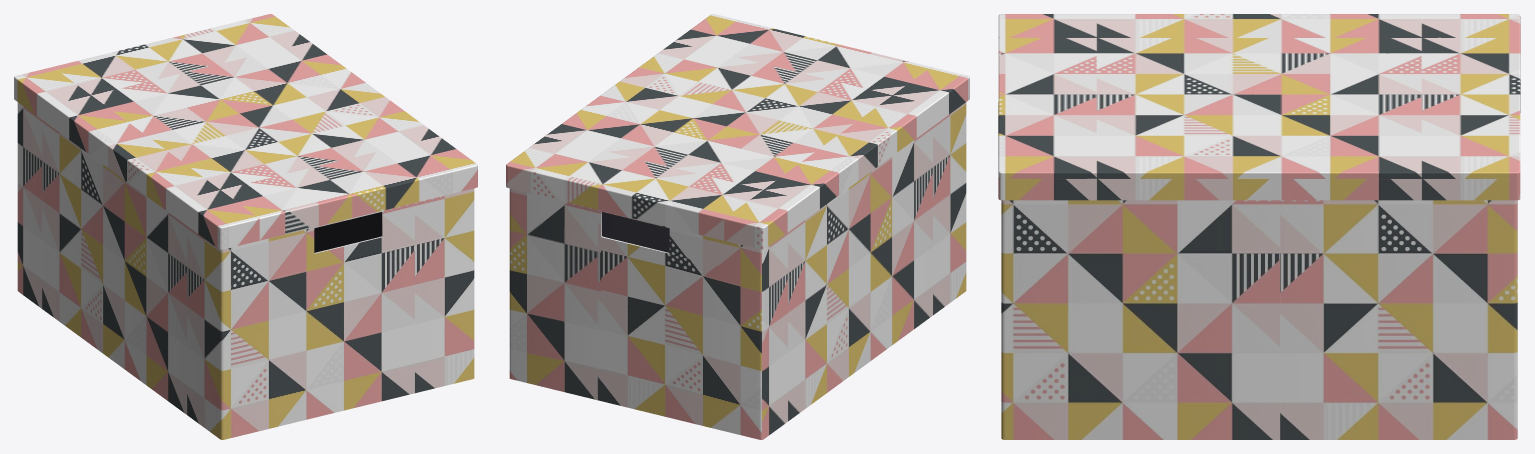
3 views of the same model, side by side, from view 1: azimuth 30°, elevation 25°; view 2: azimuth 150°, elevation 25°; view 3: azimuth 270°, elevation 25° (orthographic). The views are drawn at different scales.
Visible parts, largest first — view 1: BP_Box01; view 2: BP_Box01; view 3: BP_Box01.
Boxes of the visible parts, x1,y1,x2,y2 form: BP_Box01: (14,14,477,439); BP_Box01: (506,14,969,439); BP_Box01: (998,14,1520,439).
Bounding box in the file's own units: 0.2068 × 0.1633 × 0.2872.
3 materials, 1 textured.
